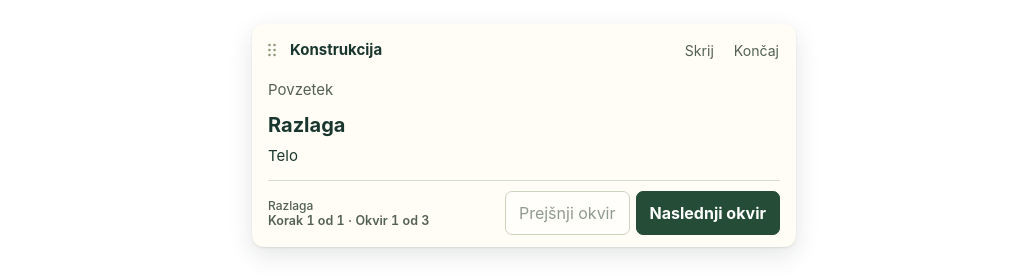
Test: clicking the graph beside a reading panel hides the instructions
Click the element with class "guided-lesson-graph-catcher": (73, 135) top-left (12, 24), bottom-right (1035, 246)
Wait 250 ms
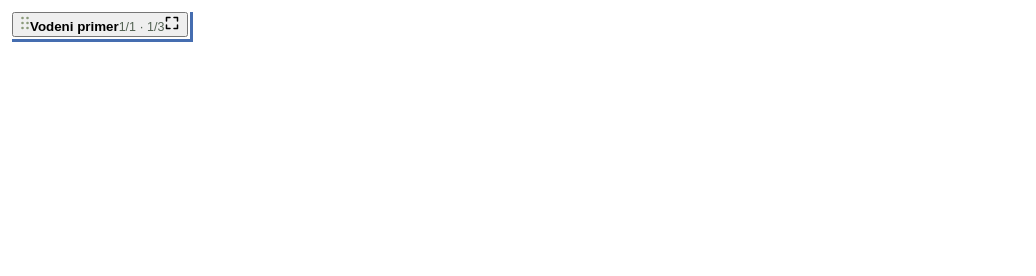
Result: the element with class "guided-lesson" is gone
Result: the button with aria-label "Nazaj na navodila" is shown at top-left (12, 12), bottom-right (188, 37)
